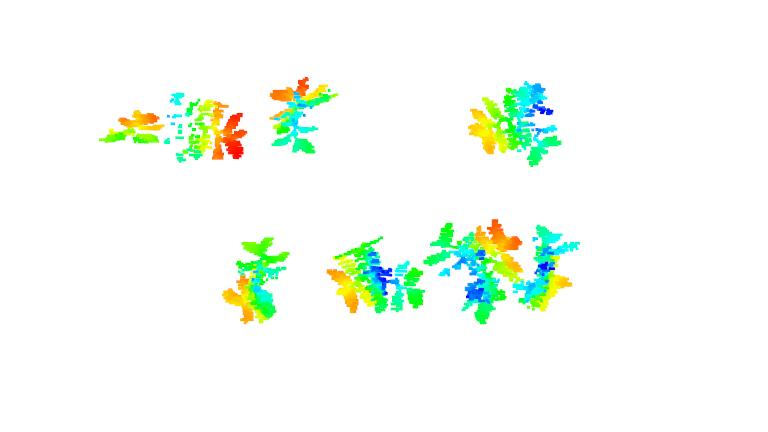chickpea: (100, 89, 247, 165), (430, 215, 519, 324), (469, 80, 564, 170), (329, 234, 429, 318), (265, 72, 340, 159), (518, 219, 583, 316), (219, 236, 287, 325)
